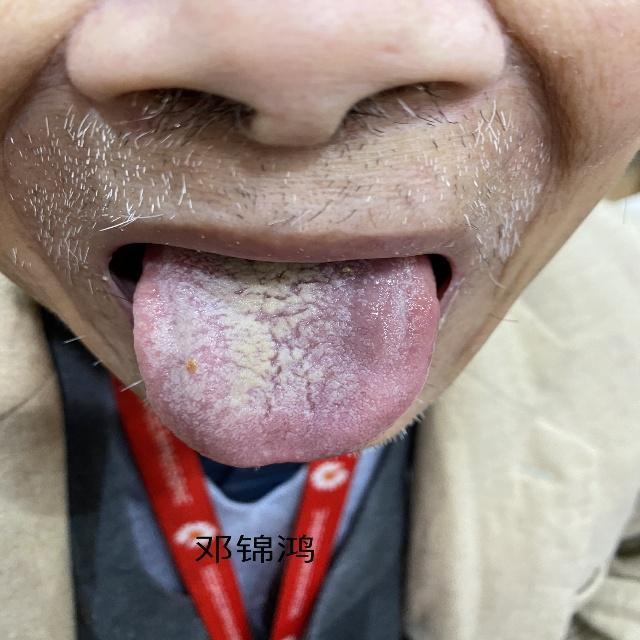baitaishe: (131, 264, 441, 469)
